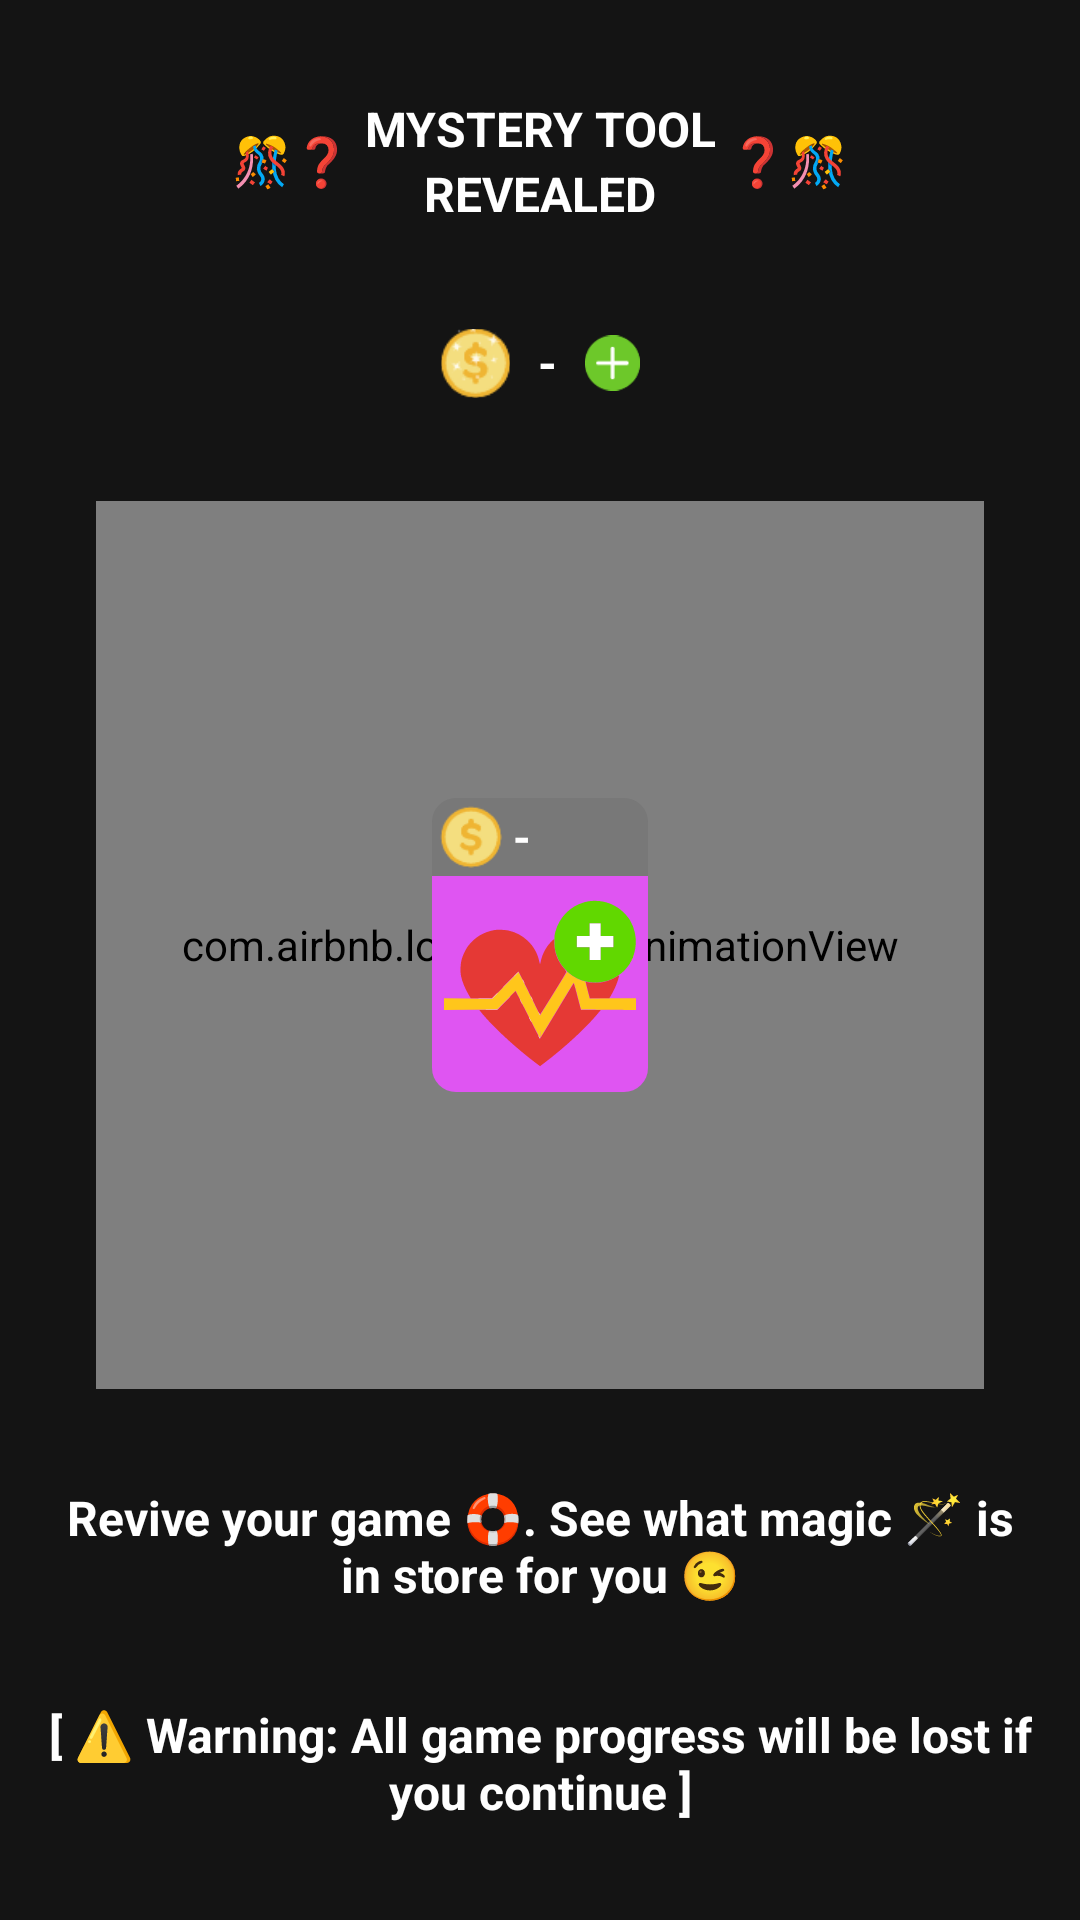

Named icons in this screenshot (1080 x 1920) and their bounding boxes, [x1=x1, y1=y1, x2=x2, y2=y2]:
Revive the Game: [x1=432, y1=876, x2=648, y2=1092]
